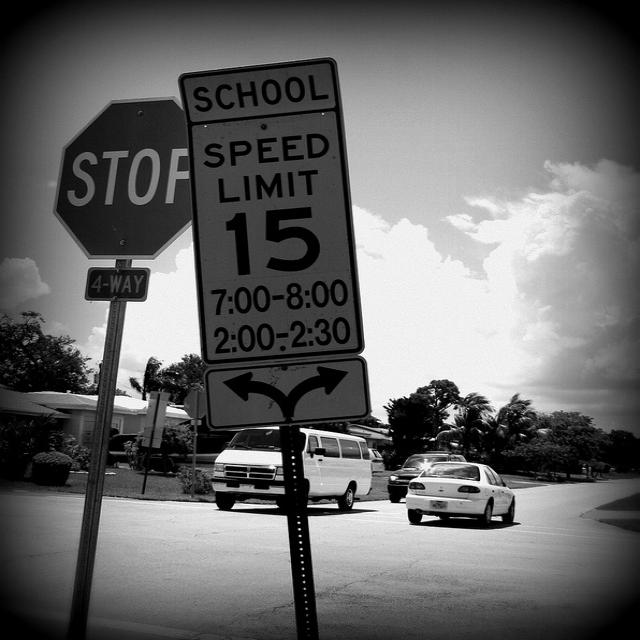car: (210, 425, 374, 512), (386, 453, 516, 526), (274, 425, 284, 493), (366, 447, 384, 471)
pole: (59, 258, 141, 639), (280, 425, 326, 639)
truck: (104, 433, 142, 465)
